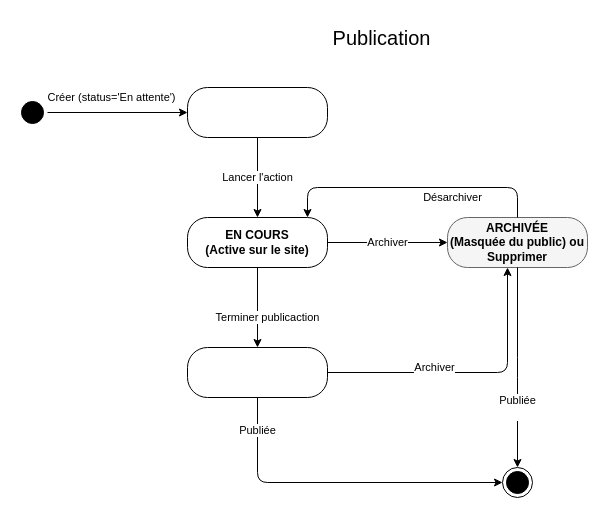
The diagram is 605 pixels wide and 515 high, and some of its shapes have lost their labels. The centre of each missing label's shape, as x and y in pixels:
"EN ATTENTE (Planifiée)" goes at point 257,112.
"TERMINÉE (Réalisée)" goes at point 257,372.
